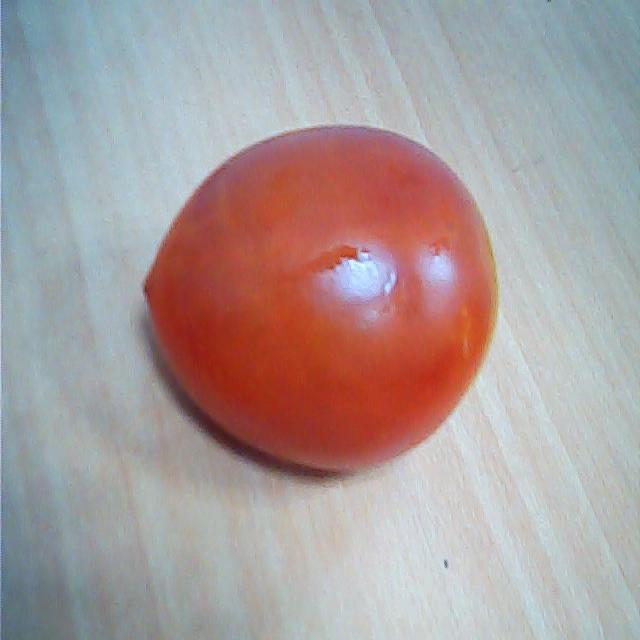maduro: (140, 121, 498, 476)
